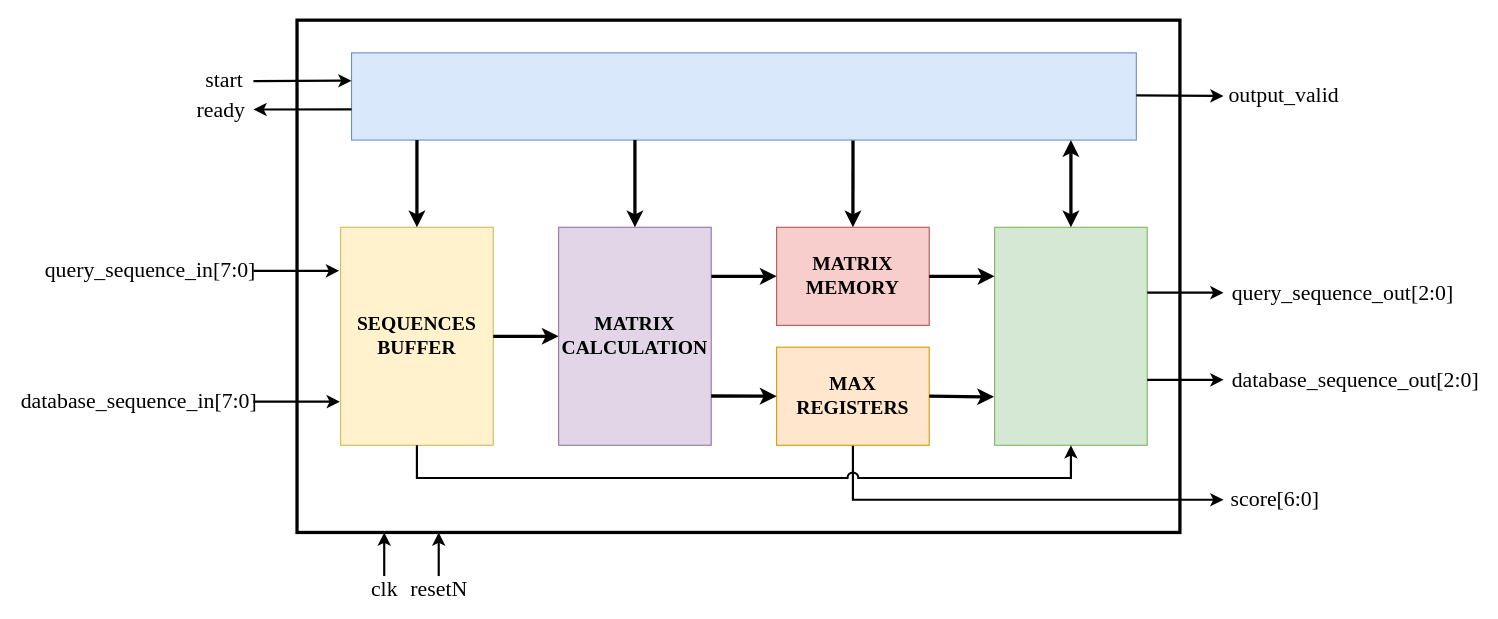
This 1498x619 diagram has some shape labels left out. Each missing label, with the centre of its shape:
"CONTROLLER" goes at (x=743, y=96).
"TRACEBACK" goes at (x=1070, y=335).
